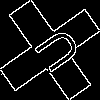U: (25, 25, 83, 81)
